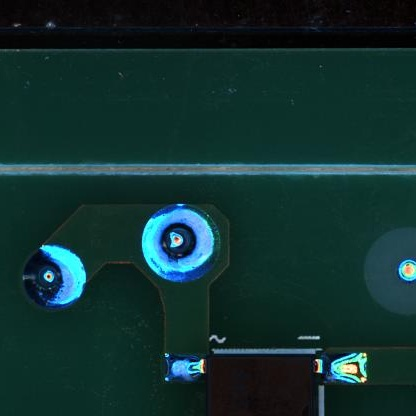spot: (142, 203, 221, 280), (23, 243, 85, 310)
